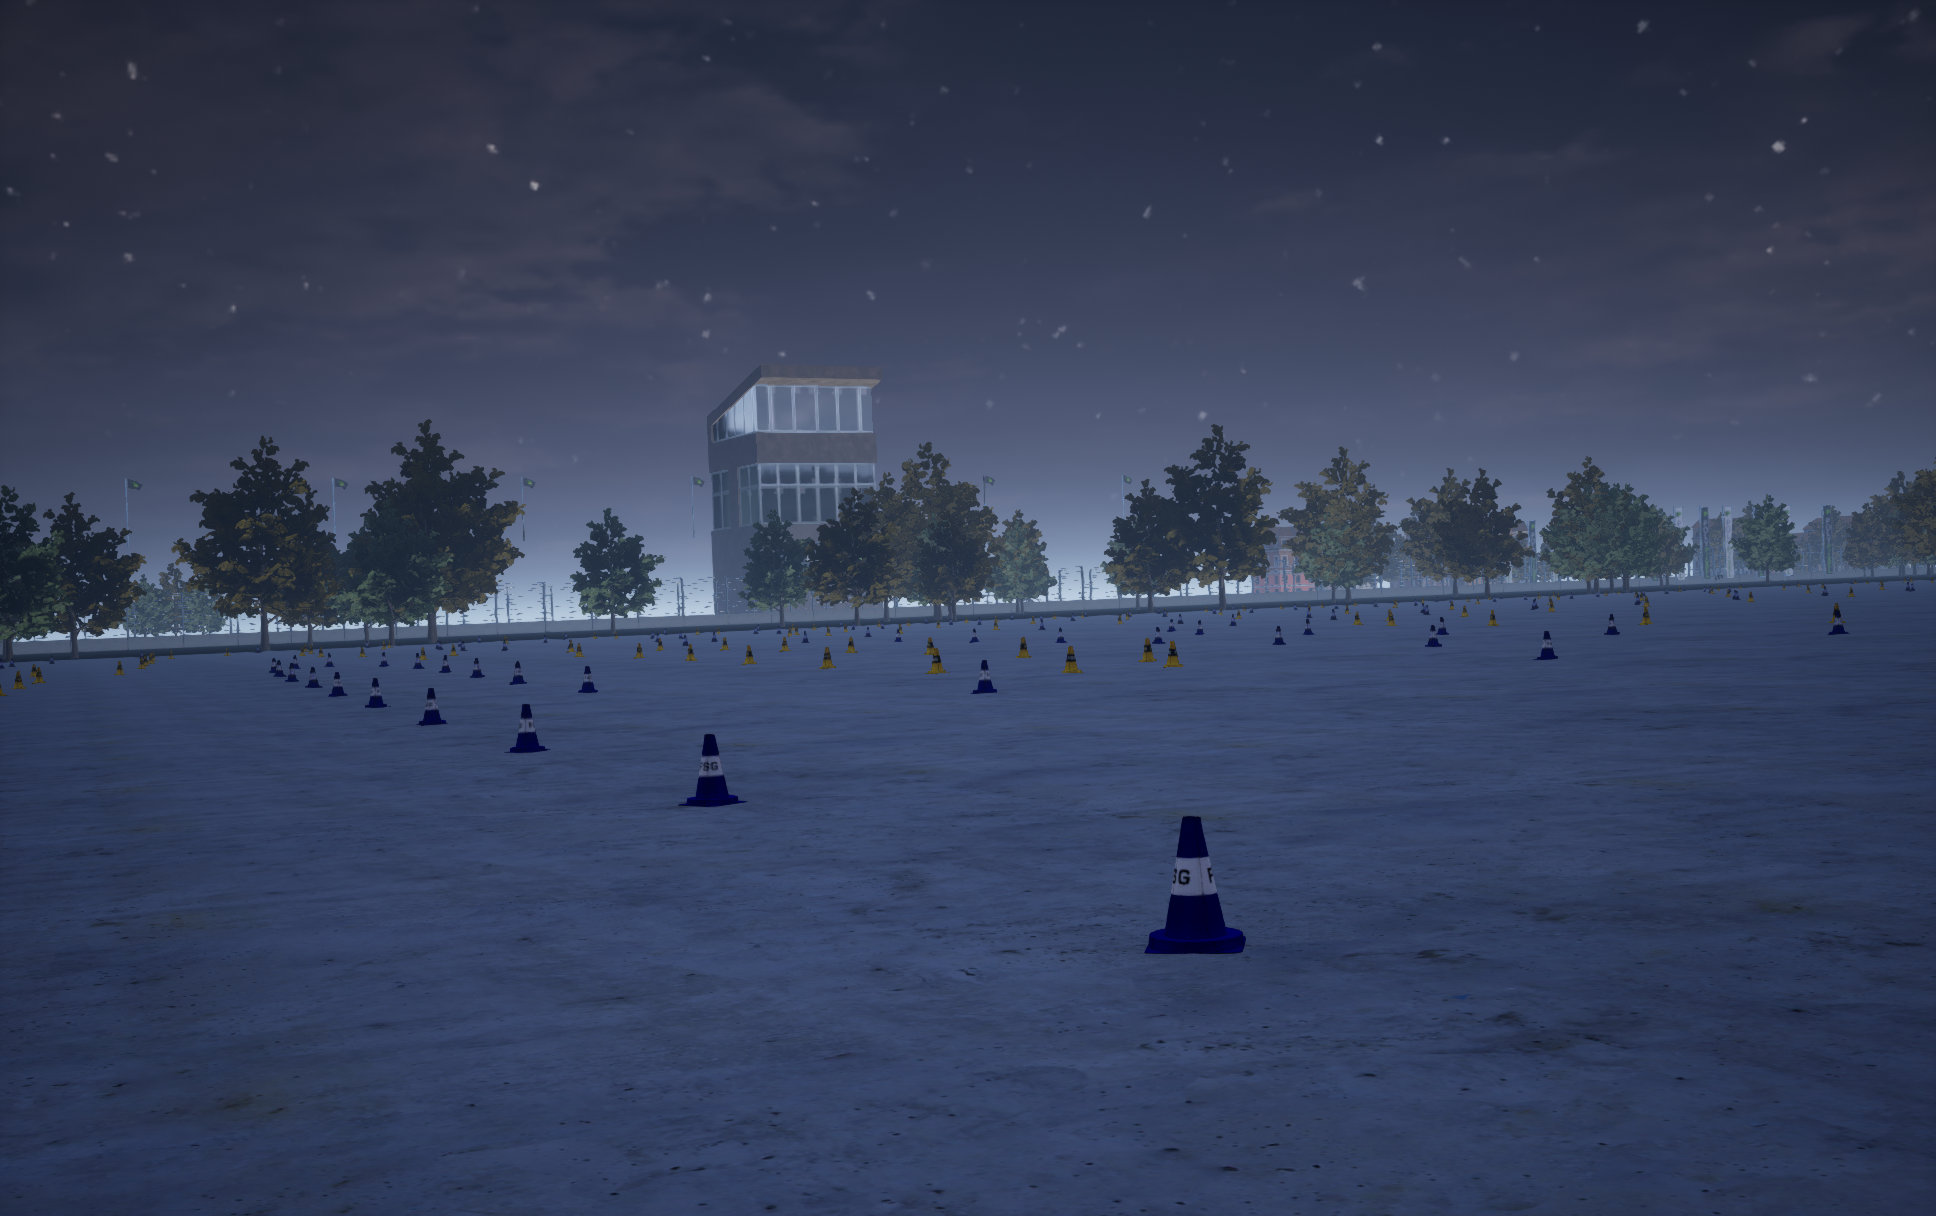blue: (925, 649, 948, 672), (1062, 646, 1083, 672), (1163, 640, 1182, 667), (1139, 637, 1156, 661), (820, 647, 835, 668), (1016, 637, 1031, 657), (741, 644, 756, 664), (1830, 602, 1845, 622)
yellow: (1145, 815, 1245, 953), (678, 734, 747, 806), (504, 705, 551, 752), (416, 688, 447, 726), (969, 660, 996, 693), (366, 678, 389, 707), (1533, 630, 1556, 658), (1827, 611, 1849, 635), (579, 665, 597, 692), (328, 672, 347, 696), (509, 661, 525, 684), (1425, 625, 1441, 646), (305, 667, 322, 686), (1604, 614, 1619, 635), (471, 658, 485, 677), (284, 663, 298, 681), (1272, 626, 1285, 644)
